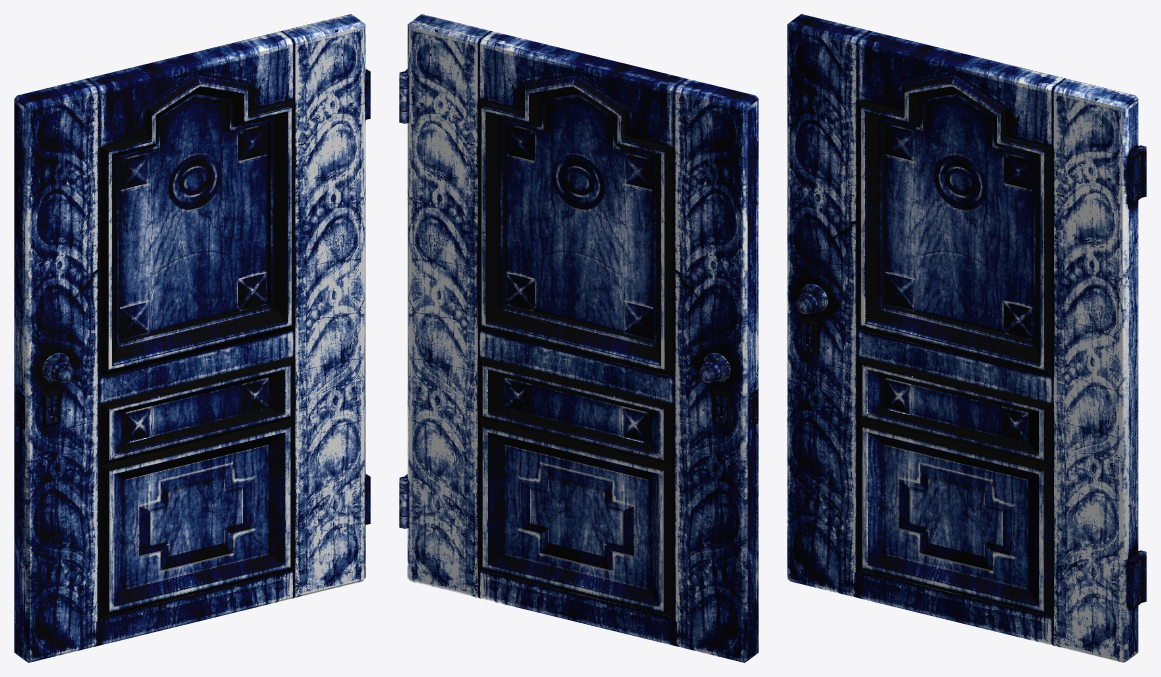
Rendered from nl_fancy.dae.
3 views of the same model, side by side, from view 1: azimuth 30°, elevation 25°; view 2: azimuth 150°, elevation 25°; view 3: azimuth 330°, elevation 25° (orthographic).
Parts seen in each view (by area): view 1: mansion_door_mesh, Object001; view 2: mansion_door_mesh, Object001; view 3: mansion_door_mesh, Object001.
Part boxes in pixels (<box>): mansion_door_mesh: <box>14,14,365,662</box>; Object001: <box>365,69,370,524</box>; mansion_door_mesh: <box>407,14,758,662</box>; Object001: <box>399,69,409,528</box>; mansion_door_mesh: <box>787,14,1138,662</box>; Object001: <box>1128,145,1146,609</box>.
Bounding box in the file's own units: 2.66 × 0.4912 × 4.09.
1 material, 1 textured.
